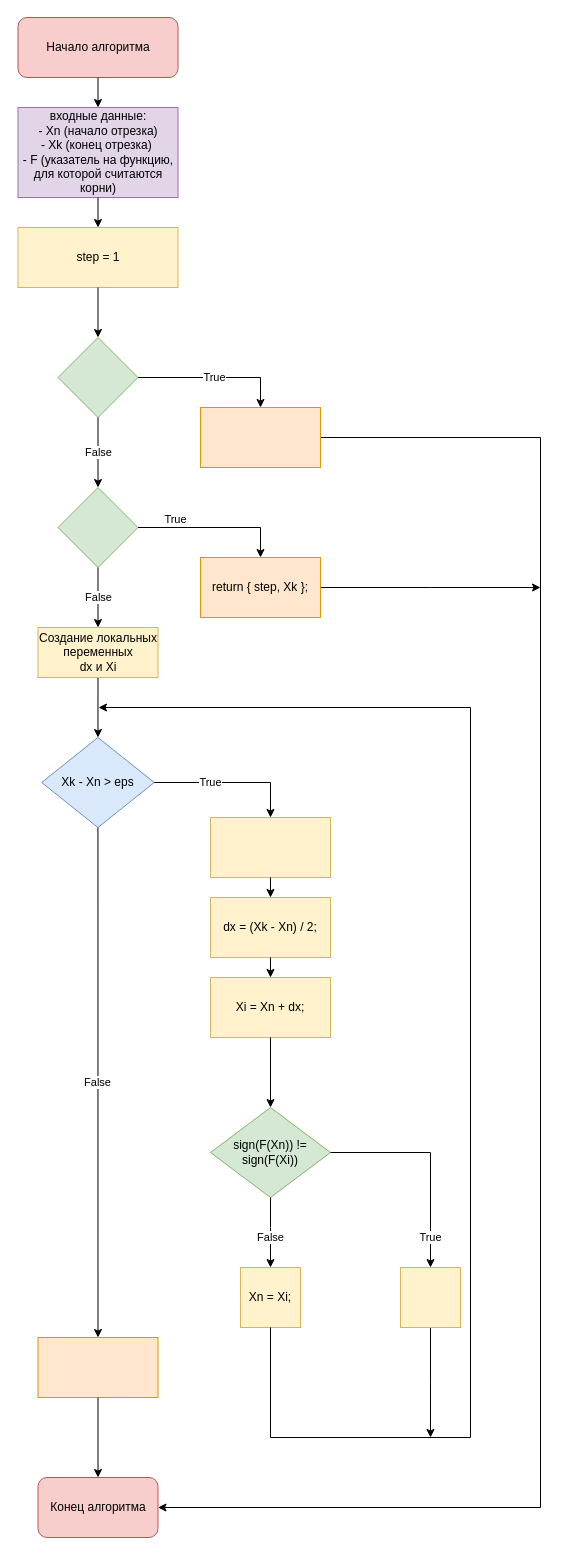
Some shapes in this 566 by 1555 pixel diagram are drawn without their labels. The box of each missing label's shape, as (x1, y1, x2, y2) in pixels:
!F(Xk): (57, 486, 138, 568)
!F(Xn): (57, 336, 138, 418)
++step;: (210, 816, 330, 878)
return { step, Xi };: (37, 1336, 158, 1398)
return { step, Xn };: (200, 406, 320, 468)
Xk = Xi;: (400, 1266, 460, 1328)
